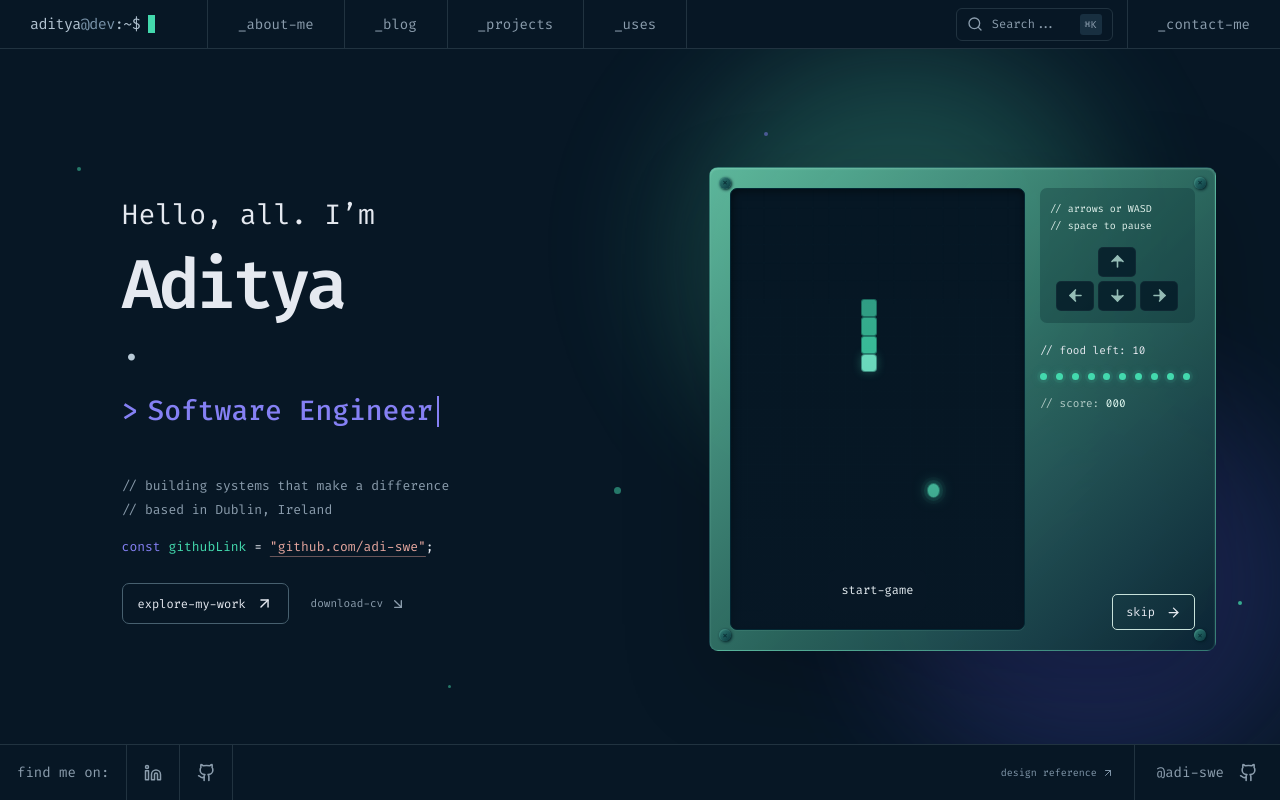
Test: Terminal portfolio interactions › renders Aditya’s identity and starts, pauses, resumes, and releases the game
Check: the heading shows "Aditya", box [122,240,343,330]
Click the button "start-game" at [877, 591], box [828,570,926,611]
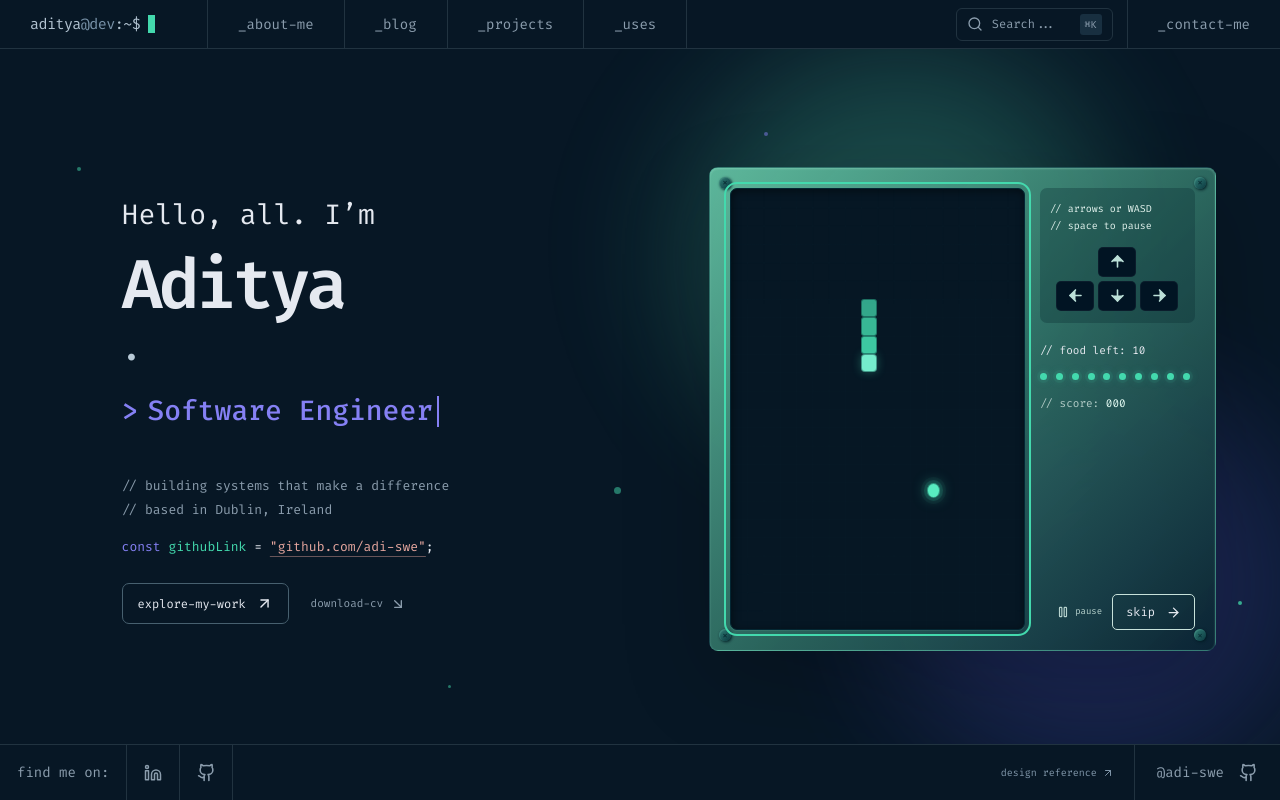
Press Space in the element named "Snake board", box [730,188,1025,630]
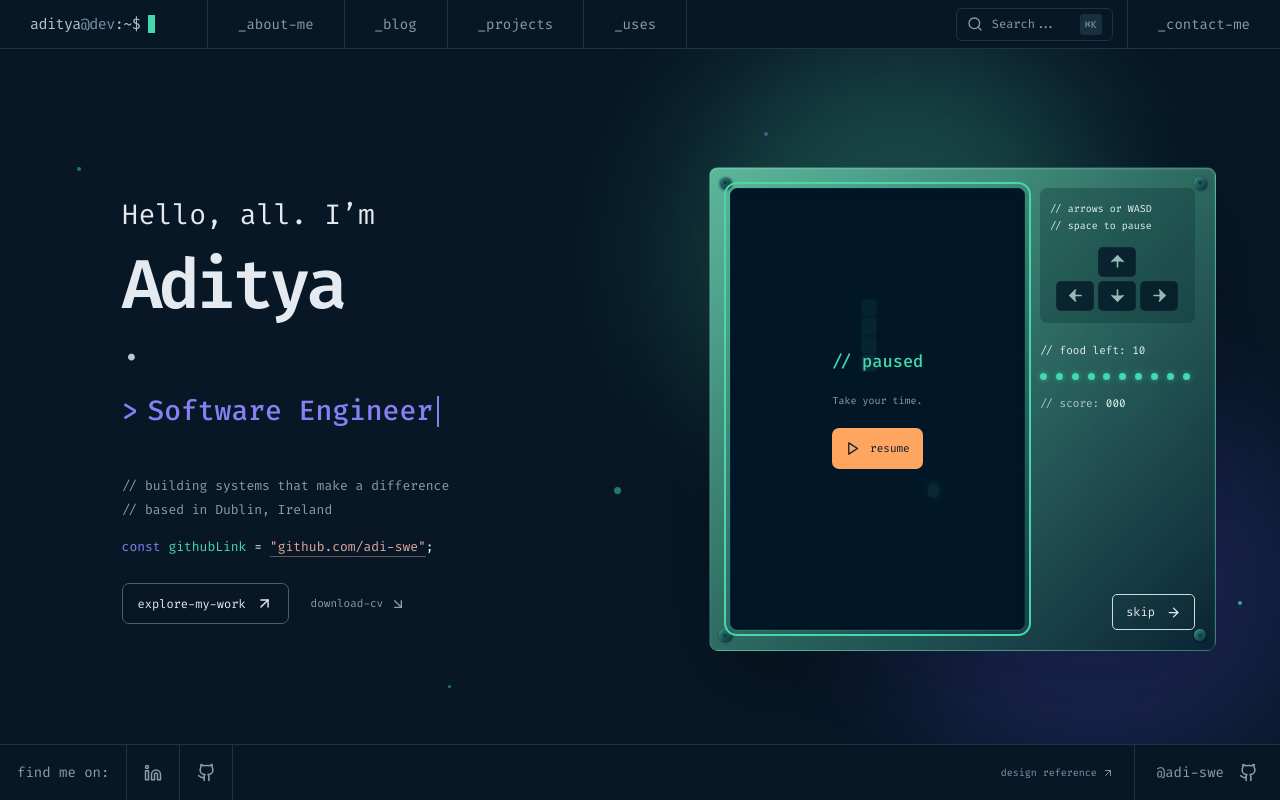
Check: the button "resume" is shown
Click the button "resume" at [877, 449], box [832,428,923,469]
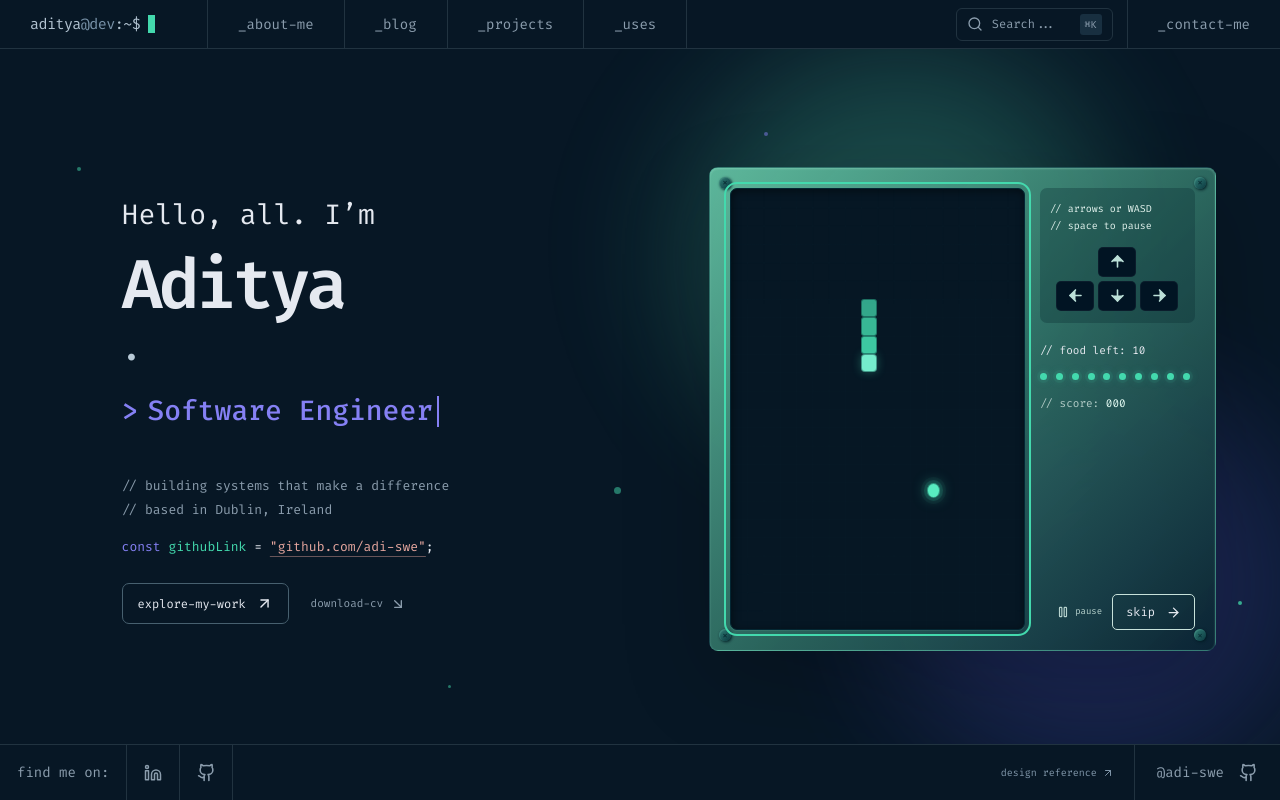
Check: the button "pause" is shown, box [1056,597,1102,627]
Press Escape in the element named "Snake board", box [730,188,1025,630]
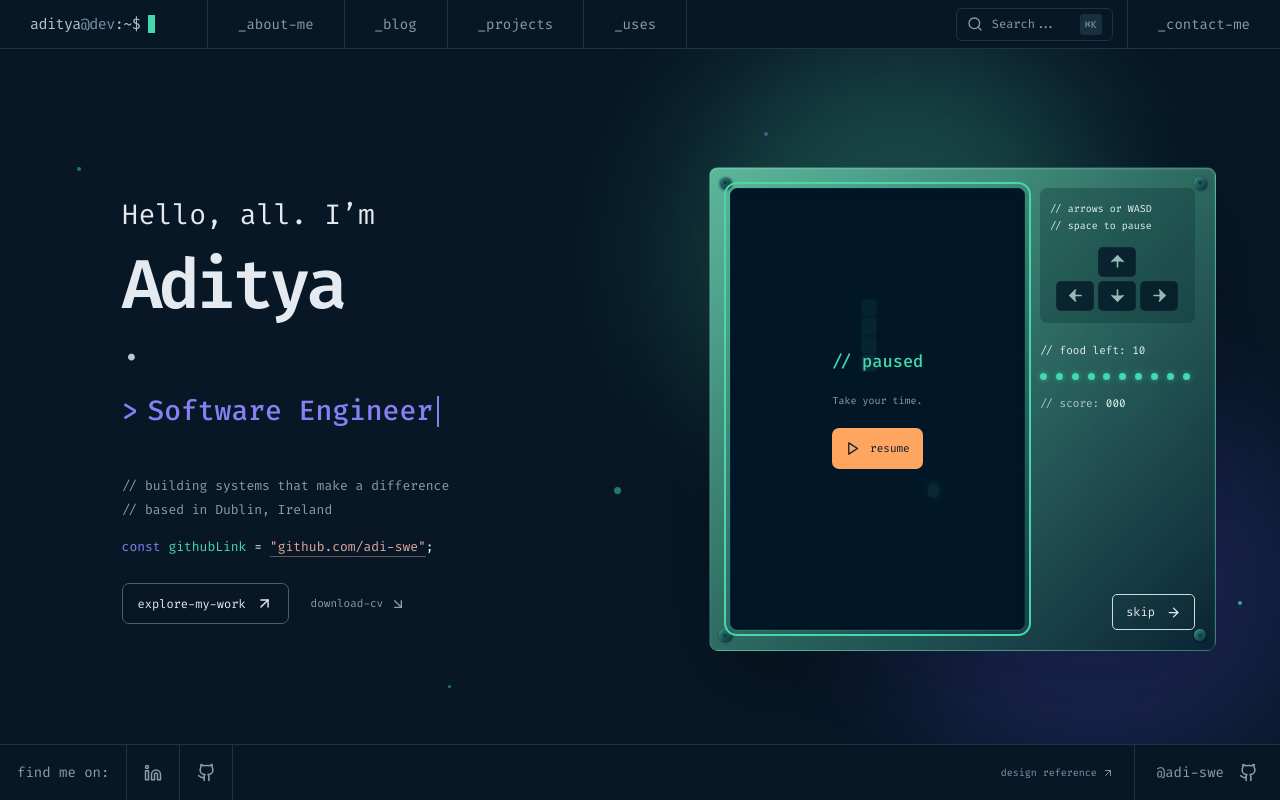
Check: the button "resume" is shown, box [832,428,923,469]
